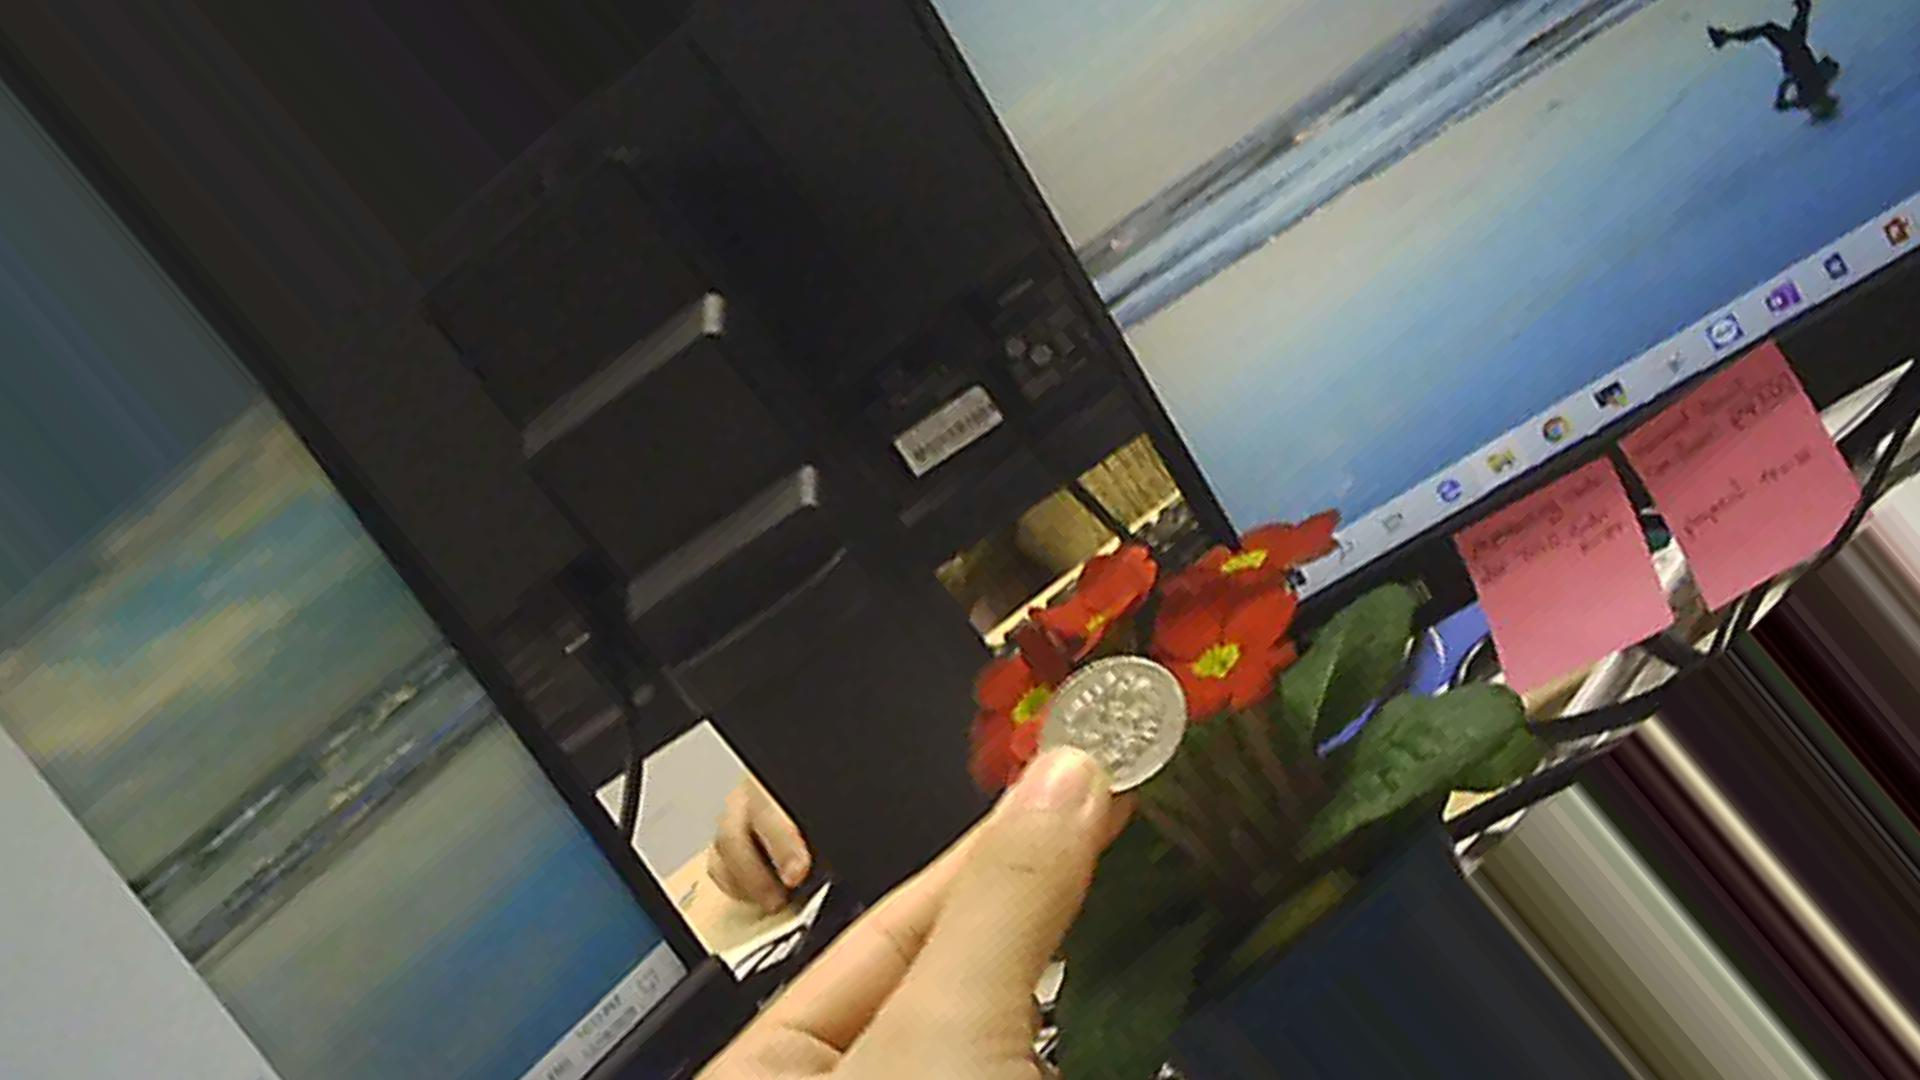100 Yen: (1040, 662, 1203, 799)
